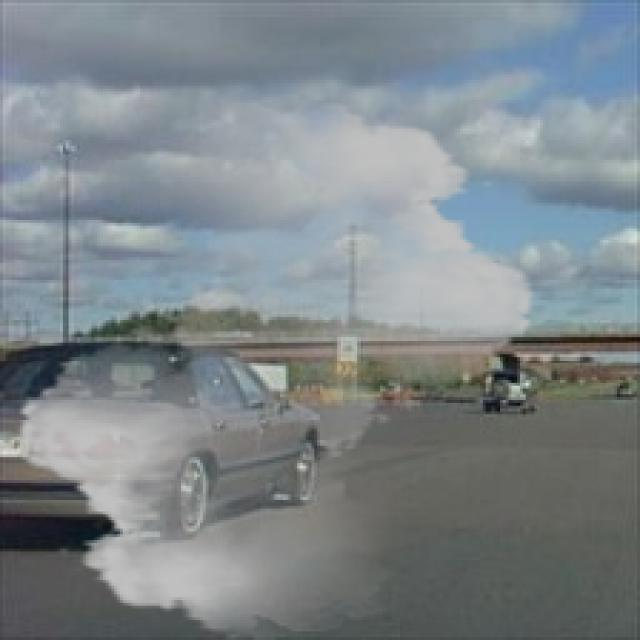smoke: (0, 94, 555, 638)
